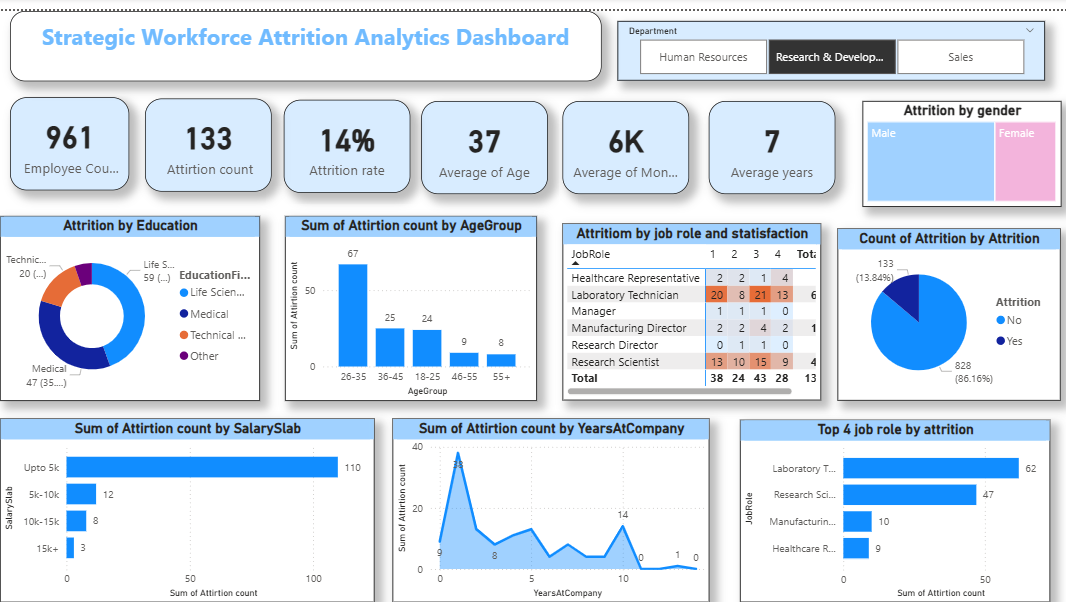

The dashboard page shown, as its layout file describes it:
{"tool":"powerbi","page":{"name":"HR Attrition Dashboard","canvas":[1280,720],"ordinal":0},"visuals":[{"type":"textbox","box":[23.3,12.3,724.5,85.1],"z":0},{"type":"card","fields":{"Values":["Sum(HR_Analytics.EmployeeCount)"]},"box":[12.3,119.4,160.5,102.9],"z":1000},{"type":"card","fields":{"Values":["Sum(HR_Analytics.Attirtion count)"]},"box":[182.5,119.4,141.3,108.4],"z":2000},{"type":"card","fields":{"Values":["HR_Analytics.Attrition rate"]},"box":[338.9,118,150.9,100.2],"z":3000},{"type":"card","fields":{"Values":["Avg(HR_Analytics.Age)"]},"box":[503.6,119.4,150.9,108.4],"z":4000},{"type":"card","fields":{"Values":["Avg(HR_Analytics.MonthlyIncome)"]},"box":[672.4,119.4,186.6,108.4],"z":5000},{"type":"card","fields":{"Values":["Avg(HR_Analytics.YearsAtCompany)"]},"box":[872.7,119.4,142.7,108.4],"z":6000},{"type":"treemap","title":"Attrition by gender","fields":{"Group":["HR_Analytics.Gender"],"Values":["Sum(HR_Analytics.Attirtion count)"]},"box":[1029.2,107,237.4,126.2],"z":7000},{"type":"donutChart","title":"Attrition by Education","fields":{"Y":["Sum(HR_Analytics.Attirtion count)"],"Category":["HR_Analytics.EducationField"]},"box":[0,244.3,310.1,220.9],"z":8000},{"type":"columnChart","fields":{"Category":["HR_Analytics.AgeGroup"],"Y":["Sum(HR_Analytics.Attirtion count)"]},"box":[340.3,244.3,300.5,220.9],"z":9000},{"type":"pivotTable","title":"Attritiom by job role and statisfaction","fields":{"Rows":["HR_Analytics.JobRole"],"Columns":["HR_Analytics.JobSatisfaction"],"Values":["Sum(HR_Analytics.Attirtion count)"]},"box":[672.4,253.9,356.8,211.3],"z":10000},{"type":"pieChart","fields":{"Category":["HR_Analytics.Attrition"],"Y":["CountNonNull(HR_Analytics.Attrition)"]},"box":[1047,252.5,219.6,205.8],"z":11000},{"type":"barChart","fields":{"Category":["HR_Analytics.SalarySlab"],"Y":["Sum(HR_Analytics.Attirtion count)"]},"box":[0,487.1,447.3,220.9],"z":12000},{"type":"areaChart","fields":{"Category":["HR_Analytics.YearsAtCompany"],"Y":["Sum(HR_Analytics.Attirtion count)"]},"box":[467.9,487.1,378.7,220.9],"z":13000},{"type":"barChart","title":"Top 4 job role by attrition","fields":{"Category":["HR_Analytics.JobRole"],"Y":["Sum(HR_Analytics.Attirtion count)"]},"box":[883.7,488.5,370.5,219.6],"z":14000},{"type":"slicer","title":"Department","fields":{"Values":["HR_Analytics.Department"]},"box":[883.7,12.3,370.5,71.4],"z":15000}]}

Visuals, with their boxes in screenshot pixels (x1, y1, x2, y2), scaled from the page's 1280x720 canvas onto the 1066x602 screenshot:
textbox: bbox=(19, 10, 623, 81)
card - Sum(HR_Analytics.EmployeeCount): bbox=(10, 100, 144, 186)
card - Sum(HR_Analytics.Attirtion count): bbox=(152, 100, 270, 190)
card - HR_Analytics.Attrition rate: bbox=(282, 99, 408, 182)
card - Avg(HR_Analytics.Age): bbox=(419, 100, 545, 190)
card - Avg(HR_Analytics.MonthlyIncome): bbox=(560, 100, 715, 190)
card - Avg(HR_Analytics.YearsAtCompany): bbox=(727, 100, 846, 190)
"Attrition by gender" treemap: bbox=(857, 89, 1055, 195)
"Attrition by Education" donutChart: bbox=(0, 204, 258, 389)
columnChart - HR_Analytics.AgeGroup x Sum(HR_Analytics.Attirtion count): bbox=(283, 204, 534, 389)
"Attritiom by job role and statisfaction" pivotTable: bbox=(560, 212, 857, 389)
pieChart - HR_Analytics.Attrition x CountNonNull(HR_Analytics.Attrition): bbox=(872, 211, 1055, 383)
barChart - HR_Analytics.SalarySlab x Sum(HR_Analytics.Attirtion count): bbox=(0, 407, 373, 592)
areaChart - HR_Analytics.YearsAtCompany x Sum(HR_Analytics.Attirtion count): bbox=(390, 407, 705, 592)
"Top 4 job role by attrition" barChart: bbox=(736, 408, 1045, 592)
"Department" slicer: bbox=(736, 10, 1045, 70)
